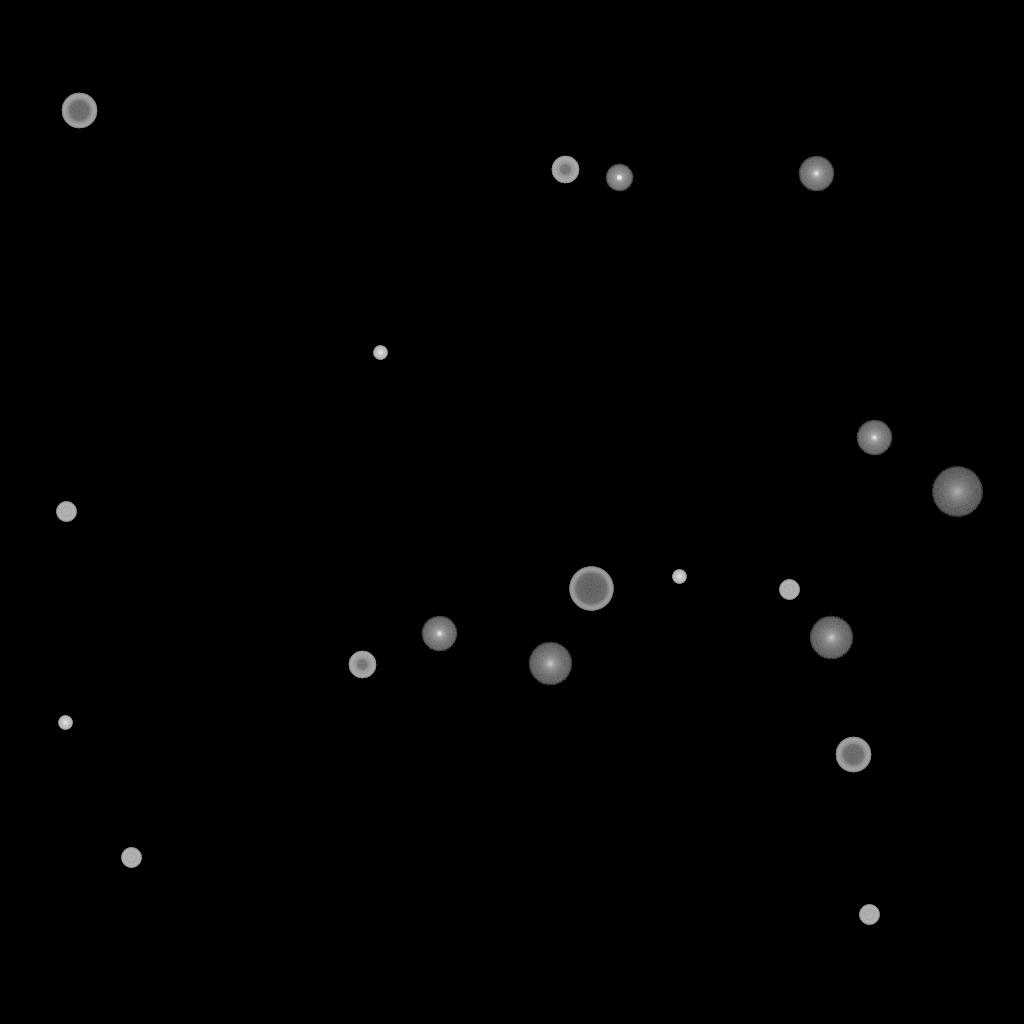depth:-10: (605, 164, 633, 192)
depth:-30: (373, 346, 387, 360), (672, 570, 686, 584), (58, 716, 72, 730)
depth:-40: (56, 502, 76, 522), (779, 580, 799, 600), (859, 905, 879, 925), (121, 848, 141, 868)
depth:-50: (348, 651, 376, 679), (551, 156, 579, 184)
depth:-60: (835, 737, 871, 773), (61, 93, 97, 129)
depth:-70: (569, 567, 613, 611)
depth:0: (421, 616, 457, 652), (856, 420, 892, 456), (798, 156, 834, 192)
depth:10: (809, 616, 853, 660), (528, 642, 572, 686)
depth:20: (931, 467, 983, 517)
